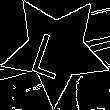L_N: (33, 21, 78, 79)
